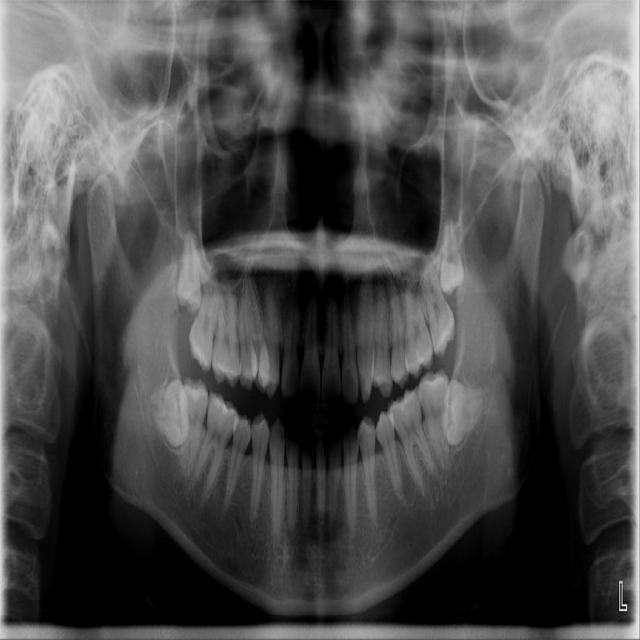impacted tooth: (141, 379, 188, 446), (446, 379, 486, 444), (175, 232, 203, 309), (439, 221, 465, 290)
